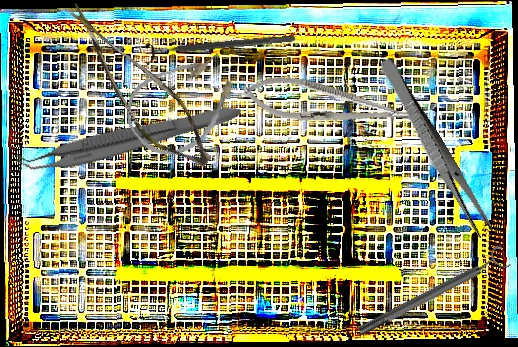Cannula: (112, 35, 255, 171)
Dressing Forceps: (373, 56, 496, 240)
Fixation Ring: (353, 243, 512, 343), (144, 26, 296, 66)
Micro Scissor: (36, 2, 236, 178)
Needle Holder: (239, 69, 422, 140)
Tissue Forceps: (11, 90, 244, 184)
